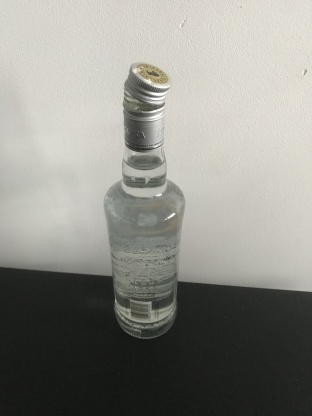nakretka: (120, 60, 173, 152)
